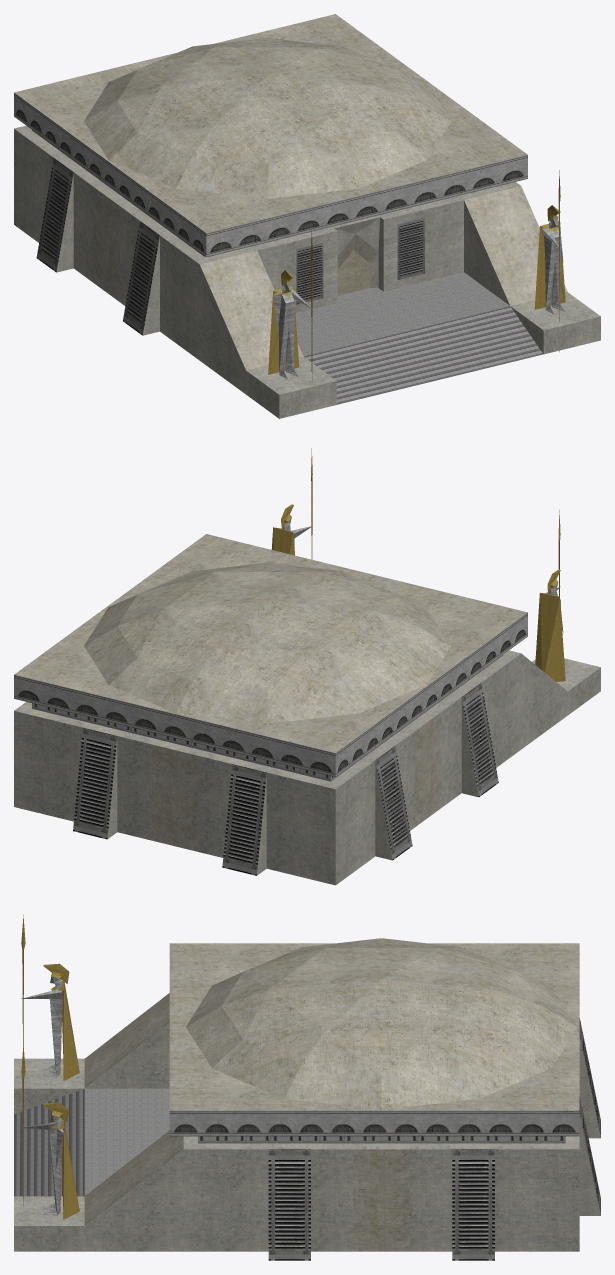
File: mun_all_guild_combat_s01_r0_exterior_mesh_exterior_l2.fbx
3 renders of one model, top to bottom at view 1: azimuth 30°, elevation 25°; view 2: azimuth 150°, elevation 25°; view 3: azimuth 270°, elevation 25°, orthographic. The views are drawn at different scales.
Parts seen in each view (by area): view 1: mesh_node; view 2: mesh_node; view 3: mesh_node.
Part boxes in pixels (left/top/right/bottom): mesh_node: left=14, top=14, right=600, bottom=418; mesh_node: left=14, top=448, right=600, bottom=885; mesh_node: left=14, top=914, right=600, bottom=1260.
Bounding box in the file's own units: 38.75 × 19.22 × 51.88.
